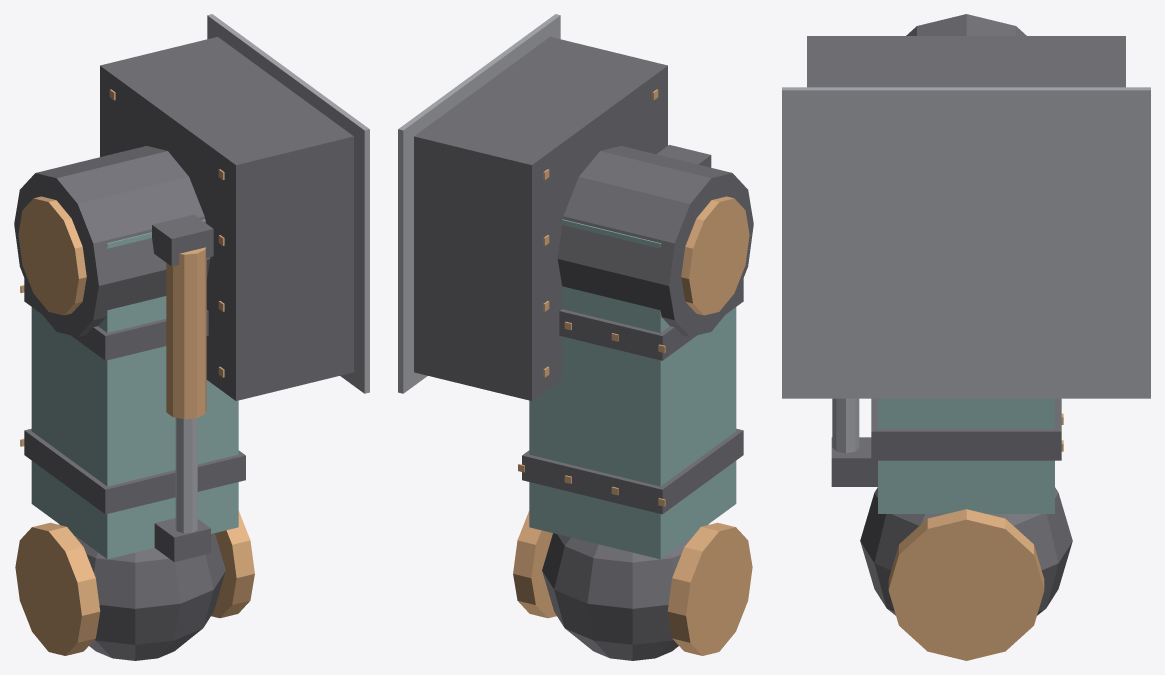
Rendered from grabber_arm.glb.
3 views of the same model, side by side, from view 1: azimuth 30°, elevation 25°; view 2: azimuth 150°, elevation 25°; view 3: azimuth 270°, elevation 25° (orthographic). The views are drawn at different scales.
Visible parts, largest first — view 1: GrabberArm; view 2: GrabberArm; view 3: GrabberArm.
Boxes of the visible parts, bbox=[...] form: GrabberArm: bbox=[14, 14, 369, 660]; GrabberArm: bbox=[398, 14, 753, 660]; GrabberArm: bbox=[782, 14, 1150, 660].
Bounding box in the file's own units: 0.925 × 1.98 × 1.04.
